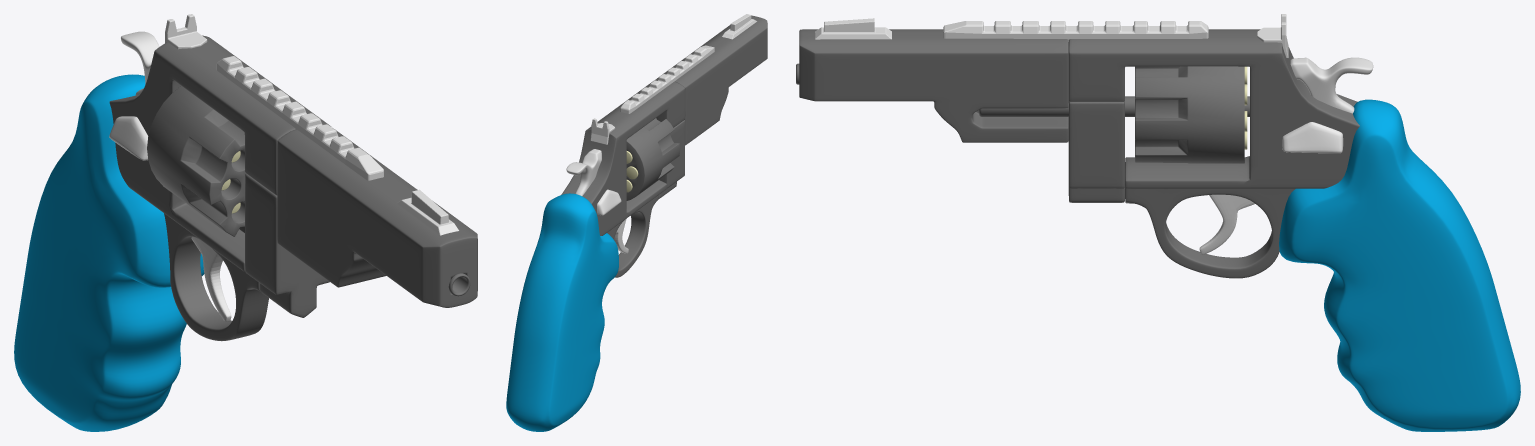
The model's file is Revolver_Static.fbx.
3 renders of one model, left to right at view 1: azimuth 30°, elevation 25°; view 2: azimuth 150°, elevation 25°; view 3: azimuth 270°, elevation 25°, orthographic. The views are drawn at different scales.
Parts seen in each view (by area): view 1: Grip, Muzzle, Frame, Cylinder, Frame.001, Attach_rail, Barrel_Sight, Trigger, Ejector_switch, Sight, Hammer; view 2: Grip, Frame, Muzzle, Cylinder, Attach_rail, Hammer, Frame.001, Sight, Barrel_Sight, Ejector_switch; view 3: Grip, Frame, Muzzle, Cylinder, Frame.001, Attach_rail, Hammer, Ejector_switch, Barrel_Sight, Trigger, Ejector.
Part boxes in pixels (x1,y1,x2,y2): Grip: (14, 74, 204, 431); Muzzle: (277, 128, 477, 307); Frame: (109, 35, 331, 341); Cylinder: (147, 86, 246, 236); Frame.001: (245, 174, 329, 317); Attach_rail: (216, 56, 383, 180); Barrel_Sight: (396, 189, 458, 235); Trigger: (191, 236, 231, 321); Ejector_switch: (109, 116, 148, 160); Sight: (165, 14, 207, 49); Hammer: (121, 31, 159, 95); Grip: (506, 193, 618, 431); Frame: (561, 79, 685, 277); Muzzle: (655, 15, 767, 145); Cylinder: (626, 118, 680, 200); Attach_rail: (620, 45, 714, 113); Hammer: (566, 149, 601, 195); Frame.001: (658, 120, 684, 198); Sight: (590, 118, 615, 144); Barrel_Sight: (722, 14, 756, 39); Ejector_switch: (597, 189, 621, 215); Grip: (1279, 99, 1520, 431); Frame: (1068, 29, 1359, 278); Muzzle: (799, 29, 1068, 142); Cylinder: (1135, 66, 1244, 163); Frame.001: (1068, 99, 1124, 202); Attach_rail: (943, 21, 1208, 41); Hammer: (1290, 57, 1373, 113); Ejector_switch: (1282, 122, 1343, 153); Barrel_Sight: (815, 18, 891, 39); Trigger: (1199, 194, 1254, 254); Ejector: (979, 96, 1249, 116).
Size of the model in its own units: 4.26 by 16.73 by 27.02.
